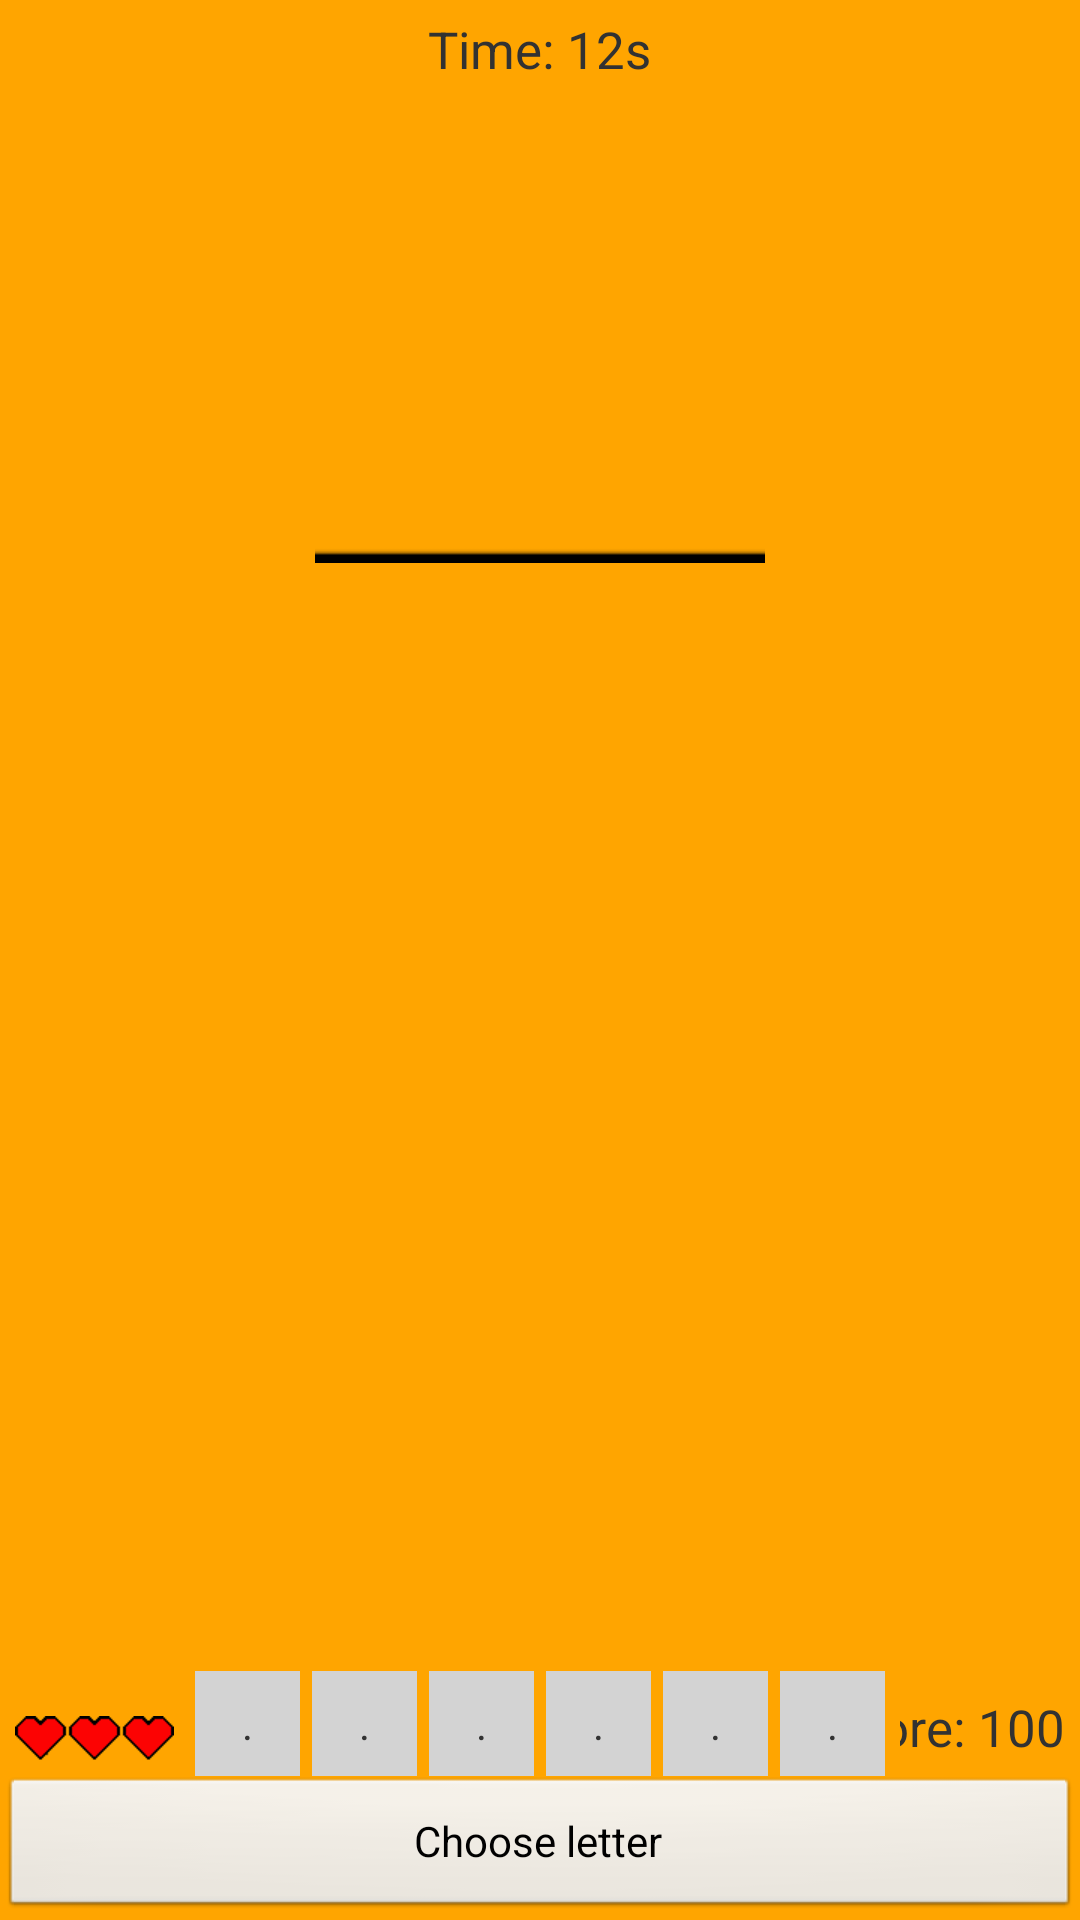

Icon click points for this 1080 x 1920 phone screenshot, format point (x, y):
heart: point (94, 1738)
